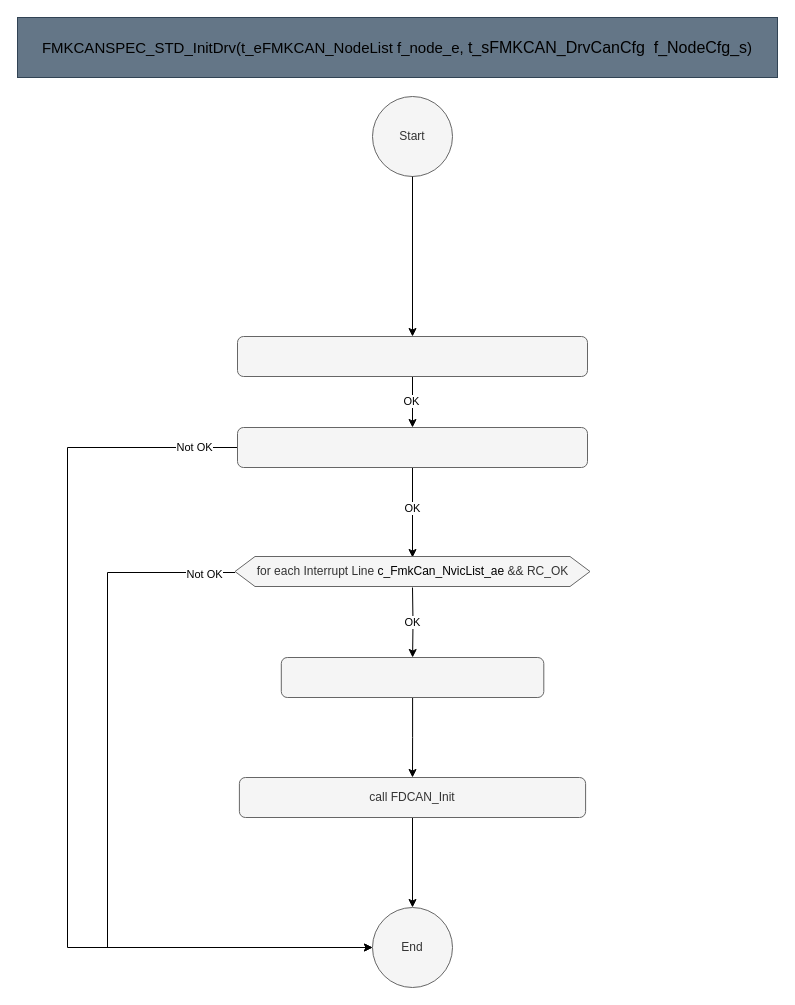
This 795x1005 diagram has some shape labels left out. Each missing label, with the centre of its shape:
"FMKCPU_SetHwClock(ena, &f_NodeInfo.c_cclock_e)" belongs at point 412,447.
"FMKCPU_SetNVICSate(ena, interrupt_line)" belongs at point 412,677.
"s_SetBspNodeCfg(f_nodeInfo_ps)" belongs at point 412,356.
